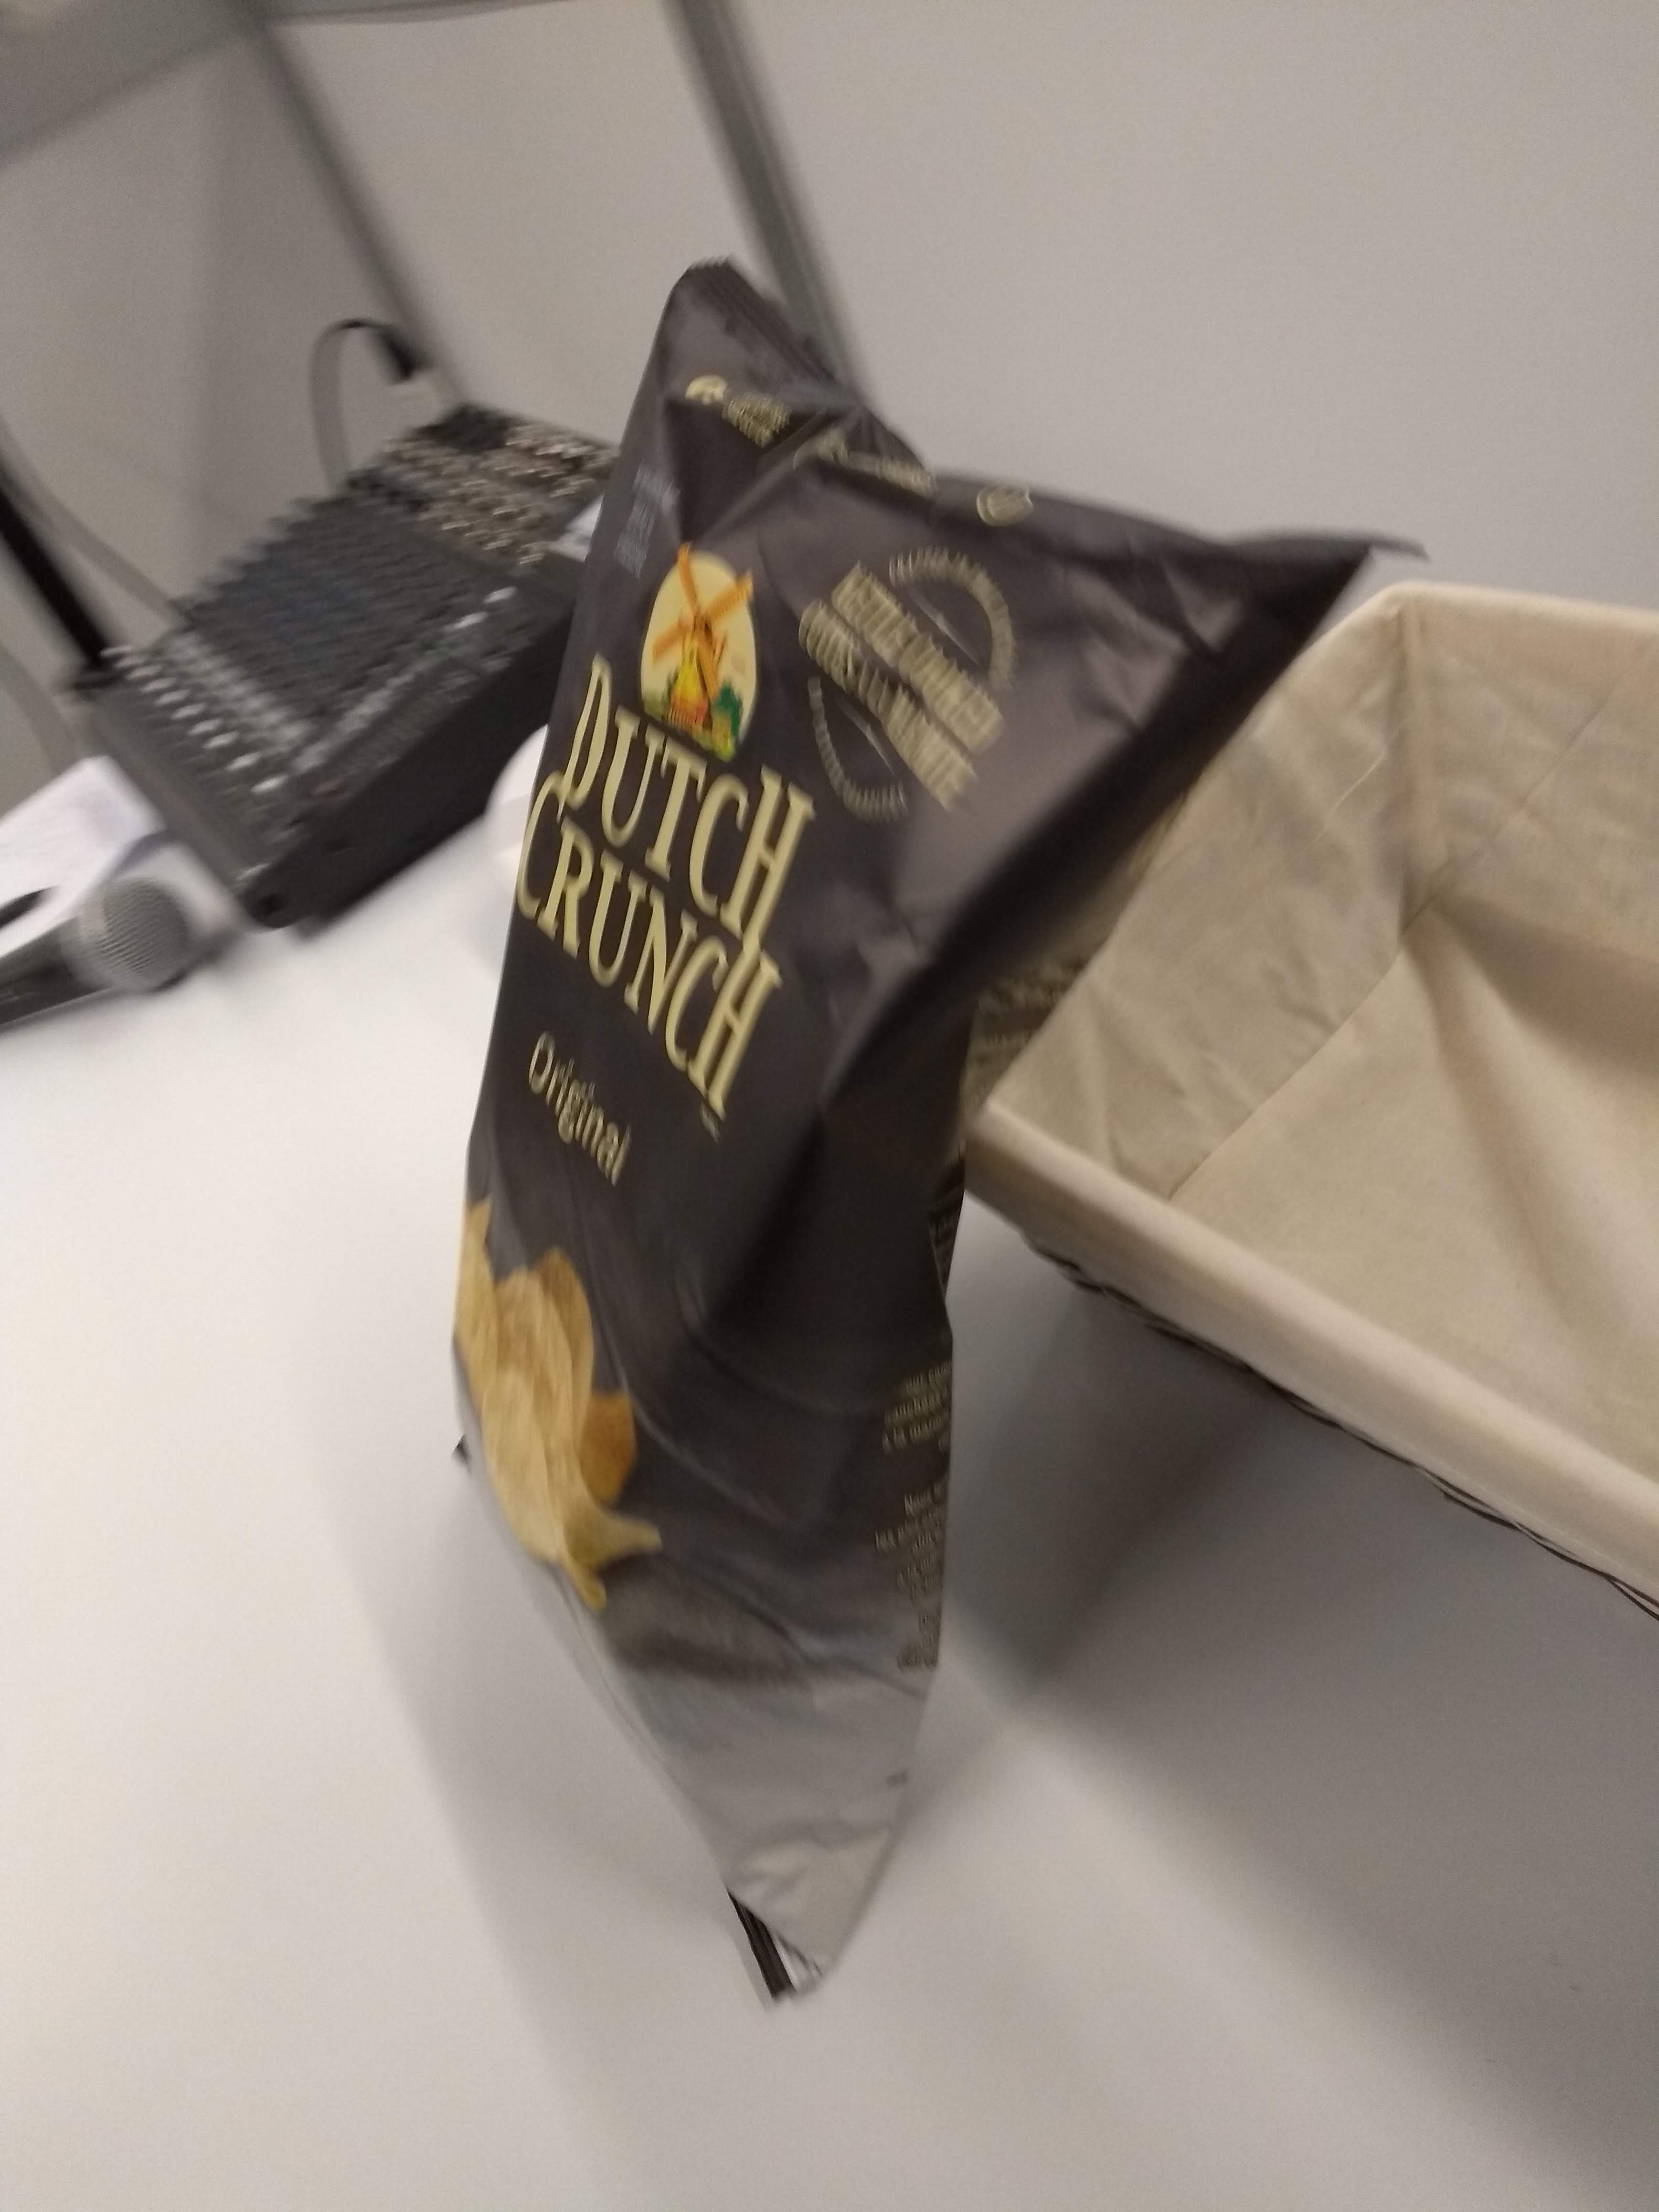potato_chips: (429, 244, 1434, 2022)
